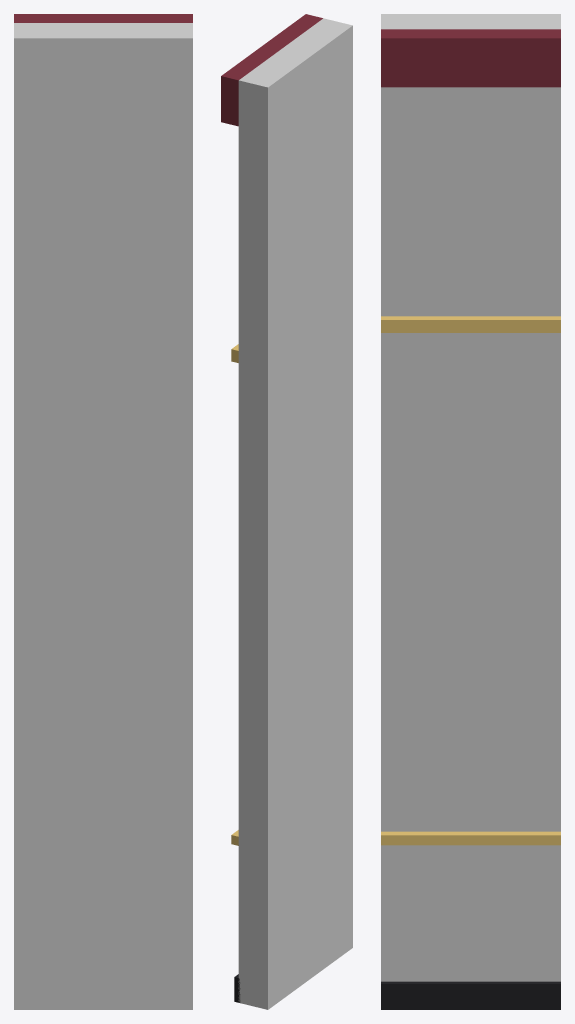
File: SM_Wall_Cinema.fbx
3 renders of one model, left to right at view 1: azimuth 90°, elevation 25°; view 2: azimuth 150°, elevation 25°; view 3: azimuth 270°, elevation 25°, orthographic. The views are drawn at different scales.
Parts seen in each view (by area): view 1: SM_Wall_Cinema; view 2: SM_Wall_Cinema; view 3: SM_Wall_Cinema.
Part boxes in pixels (box(x1,y1,x2,y2)): SM_Wall_Cinema: box(14, 14, 192, 1009); SM_Wall_Cinema: box(221, 14, 352, 1009); SM_Wall_Cinema: box(381, 14, 560, 1009).
Bounding box in the file's own units: 32 × 600 × 100.
